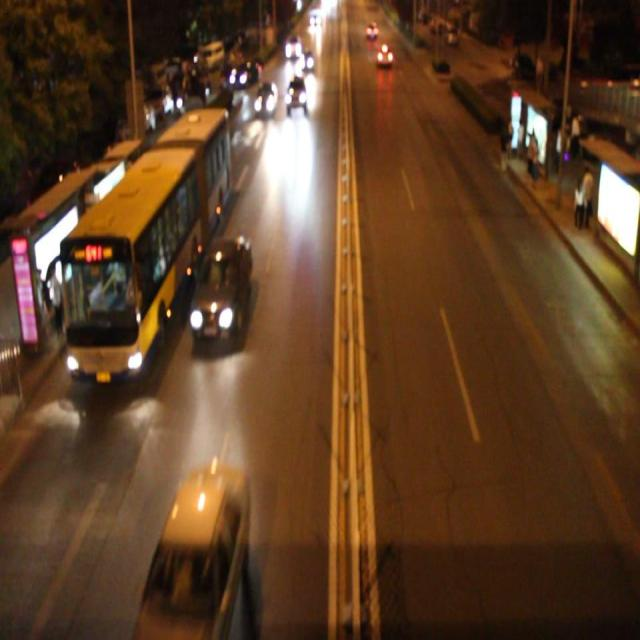car: (141, 466, 247, 640), (188, 236, 252, 351), (254, 80, 277, 118), (285, 72, 307, 111)
van: (54, 102, 219, 376)
